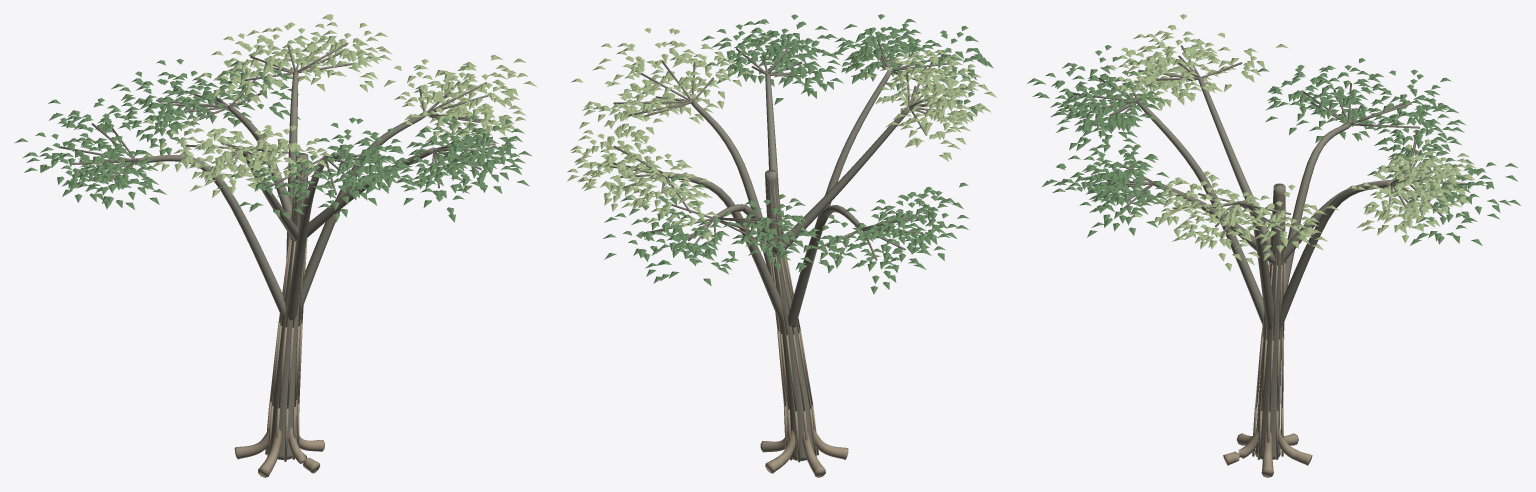
File: dongpo-waterside-tree-1.glb
3 renders of one model, left to right at view 1: azimuth 30°, elevation 25°; view 2: azimuth 150°, elevation 25°; view 3: azimuth 270°, elevation 25°, orthographic. The views are drawn at different scales.
Visible parts, largest first — view 1: dongpo-waterside-tree-1; view 2: dongpo-waterside-tree-1; view 3: dongpo-waterside-tree-1.
Boxes of the visible parts, left/top/right/bottom form: dongpo-waterside-tree-1: left=15, top=14, right=536, bottom=477; dongpo-waterside-tree-1: left=567, top=14, right=996, bottom=477; dongpo-waterside-tree-1: left=1027, top=14, right=1520, bottom=477.
Size of the model in its own units: 8.2 by 7.15 by 8.39.
